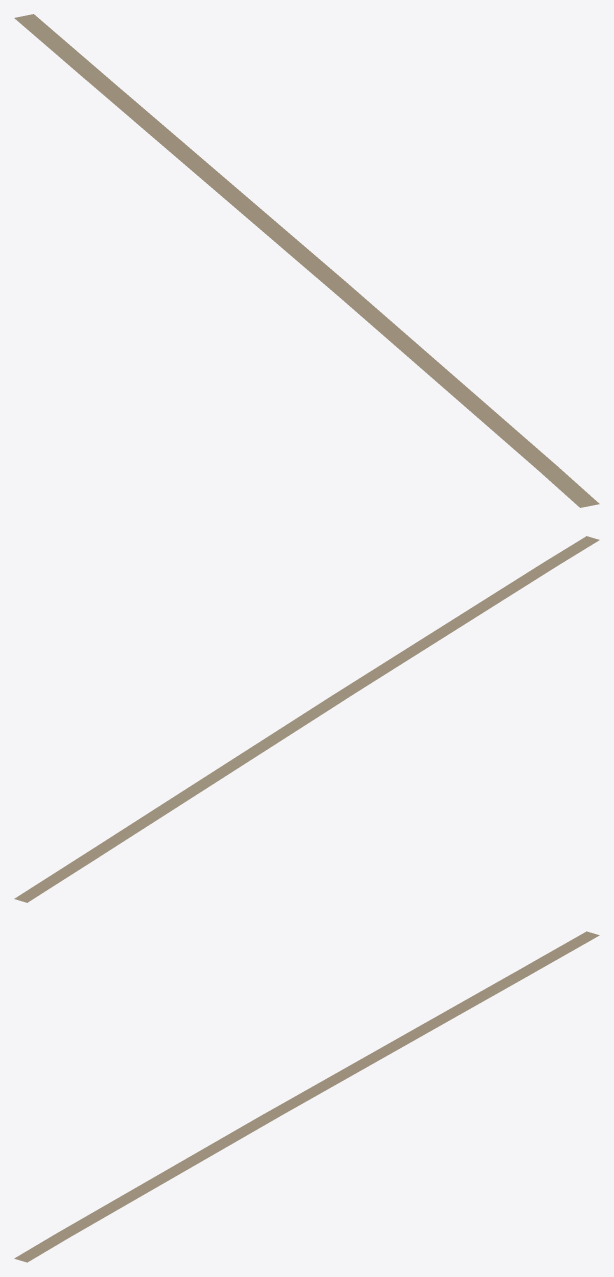
Rendered from farm_20_28_track.glb.
The picture shows the model from 3 angles, top to bottom: view 1: azimuth 30°, elevation 25°; view 2: azimuth 150°, elevation 25°; view 3: azimuth 330°, elevation 25°; orthographic projection. The views are drawn at different scales.
Parts seen in each view (by area): view 1: geometry_0; view 2: geometry_0; view 3: geometry_0.
Part boxes in pixels (left/top/right/bottom): geometry_0: left=14, top=14, right=599, bottom=507; geometry_0: left=14, top=536, right=599, bottom=902; geometry_0: left=14, top=931, right=599, bottom=1262.
Size of the model in its own units: 20.93 by 3.97 by 201.
